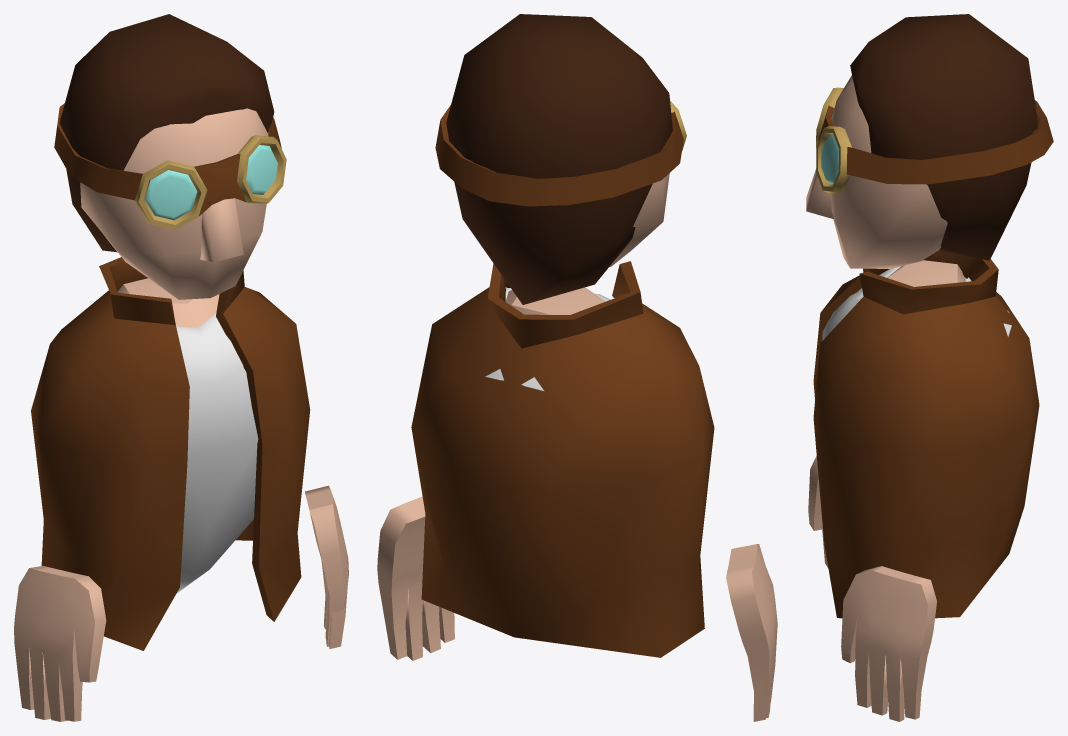
The model's file is player.gltf.
The picture shows the model from 3 angles, left to right: view 1: azimuth 30°, elevation 25°; view 2: azimuth 150°, elevation 25°; view 3: azimuth 270°, elevation 25°; orthographic projection. The views are drawn at different scales.
Parts seen in each view (by area): view 1: Jacket, Hair, Torso Shirt, Head Skin, Right Hand Skin, Goggles Leather, Left Hand Skin, Goggles Metal, Goggles Glass, Nose Mesh, Torso Neck Skin; view 2: Jacket, Hair, Goggles Leather, Left Hand Skin, Right Hand Skin, Torso Neck Skin, Head Skin; view 3: Jacket, Hair, Left Hand Skin, Head Skin, Goggles Leather, Goggles Metal, Torso Neck Skin, Right Hand Skin, Torso Shirt, Nose Mesh, Goggles Glass.
Boxes of the visible parts, left/top/right/bottom form: Jacket: left=31, top=257, right=310, bottom=650; Hair: left=59, top=14, right=274, bottom=252; Torso Shirt: left=176, top=313, right=258, bottom=593; Head Skin: left=80, top=108, right=268, bottom=299; Right Hand Skin: left=14, top=566, right=106, bottom=721; Goggles Leather: left=54, top=103, right=281, bottom=215; Left Hand Skin: left=305, top=485, right=348, bottom=648; Goggles Metal: left=135, top=135, right=286, bottom=229; Goggles Glass: left=145, top=145, right=277, bottom=220; Nose Mesh: left=200, top=198, right=243, bottom=262; Torso Neck Skin: left=117, top=278, right=219, bottom=327; Jacket: left=411, top=261, right=714, bottom=657; Hair: left=446, top=14, right=672, bottom=304; Goggles Leather: left=435, top=105, right=683, bottom=206; Left Hand Skin: left=377, top=496, right=454, bottom=660; Right Hand Skin: left=726, top=544, right=777, bottom=721; Torso Neck Skin: left=505, top=287, right=605, bottom=314; Head Skin: left=609, top=173, right=669, bottom=267; Jacket: left=813, top=251, right=1039, bottom=618; Hair: left=850, top=14, right=1037, bottom=260; Left Hand Skin: left=841, top=566, right=936, bottom=721; Head Skin: left=831, top=75, right=947, bottom=268; Goggles Leather: left=818, top=100, right=1053, bottom=184; Goggles Metal: left=816, top=87, right=851, bottom=193; Torso Neck Skin: left=887, top=260, right=965, bottom=286; Right Hand Skin: left=808, top=456, right=828, bottom=567; Torso Shirt: left=822, top=266, right=1011, bottom=340; Nose Mesh: left=806, top=168, right=833, bottom=218; Goggles Glass: left=821, top=110, right=838, bottom=183.
Size of the model in its own units: 0.7944 by 1.39 by 0.5026.
